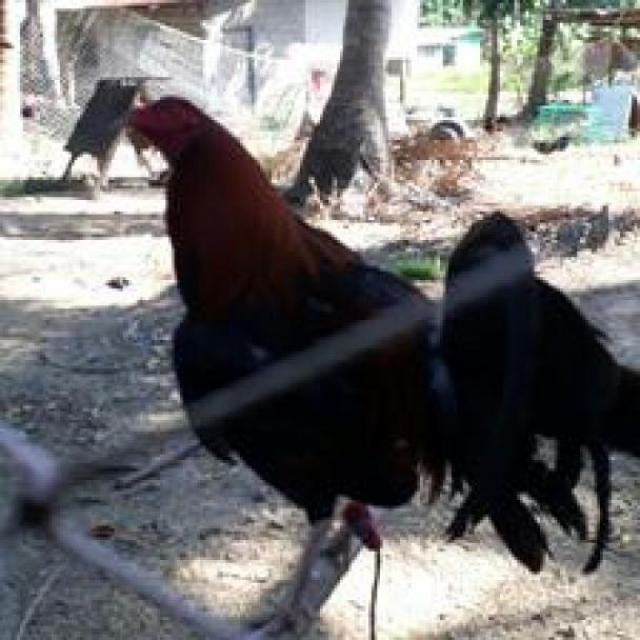Chicken: (116, 87, 640, 640)
